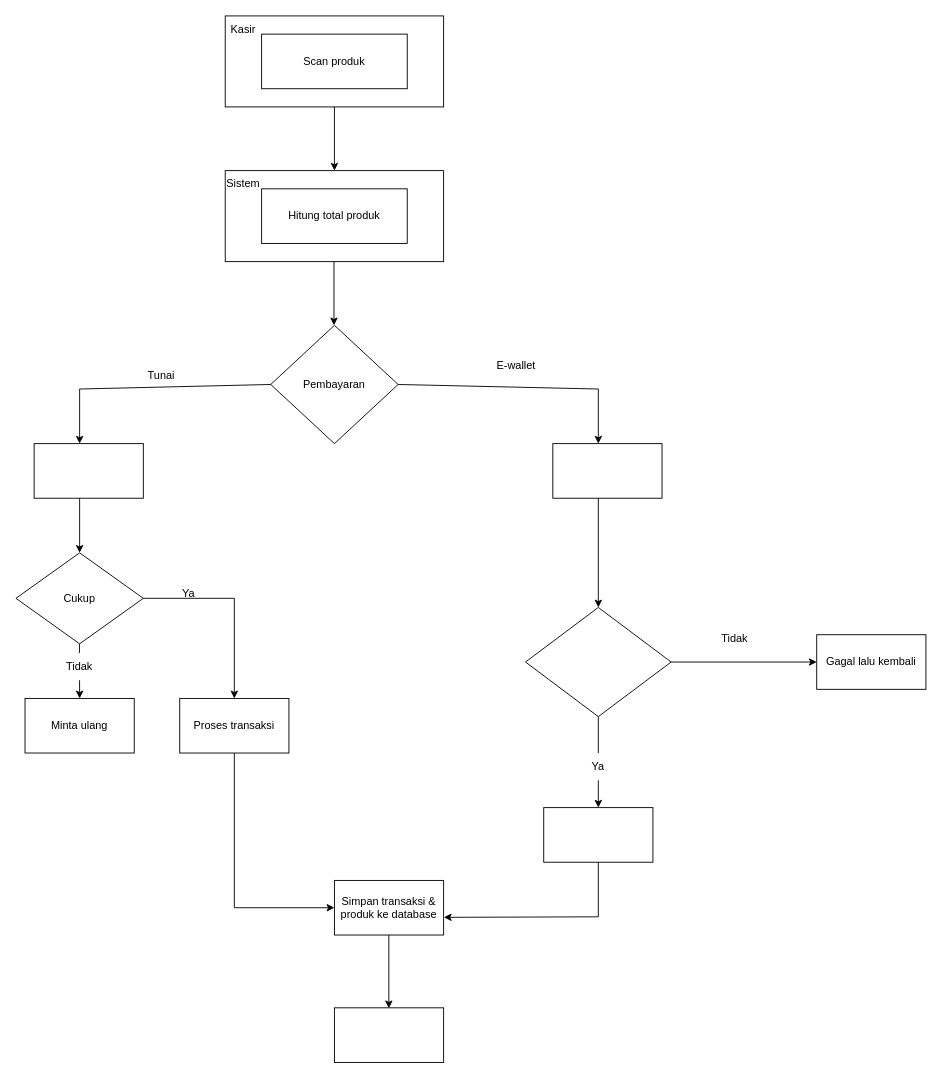
Image size: 942x1078. Some labels were removed from this diagram. The shapes that lost their labels are listed below. From the top down, each one's box as (x1, y1, x2, y2) in pixels, then its label:
(33, 443, 143, 498): Input jumlah transaksi
(552, 443, 662, 498): Permintaan ke payment gateway
(525, 607, 671, 717): Saldo cukup
(543, 807, 653, 862): Otorisasi berhasil
(334, 1007, 444, 1062): Cetak struk
